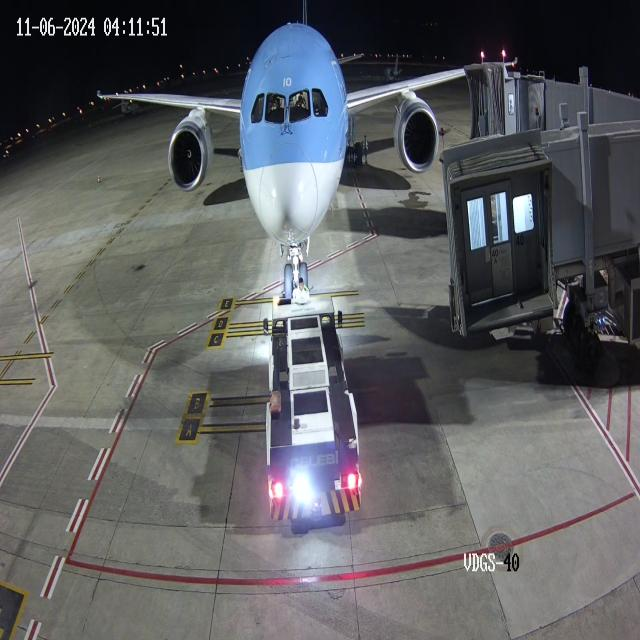bridge: (488, 56, 550, 138)
plane: (91, 3, 437, 301)
window: (248, 80, 334, 130)
